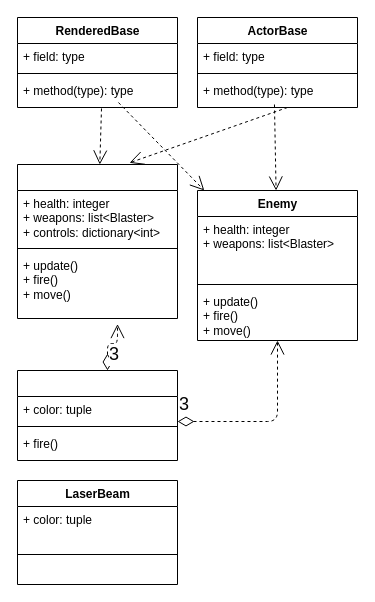
Image size: 375x602. Some labels were removed from this diagram. The shapes that lost their labels are listed below. From the top down, each one's box as (x1, y1, x2, y2) in pixels, then its label:
(16, 164, 178, 318): Player
(16, 370, 178, 460): Blaster
